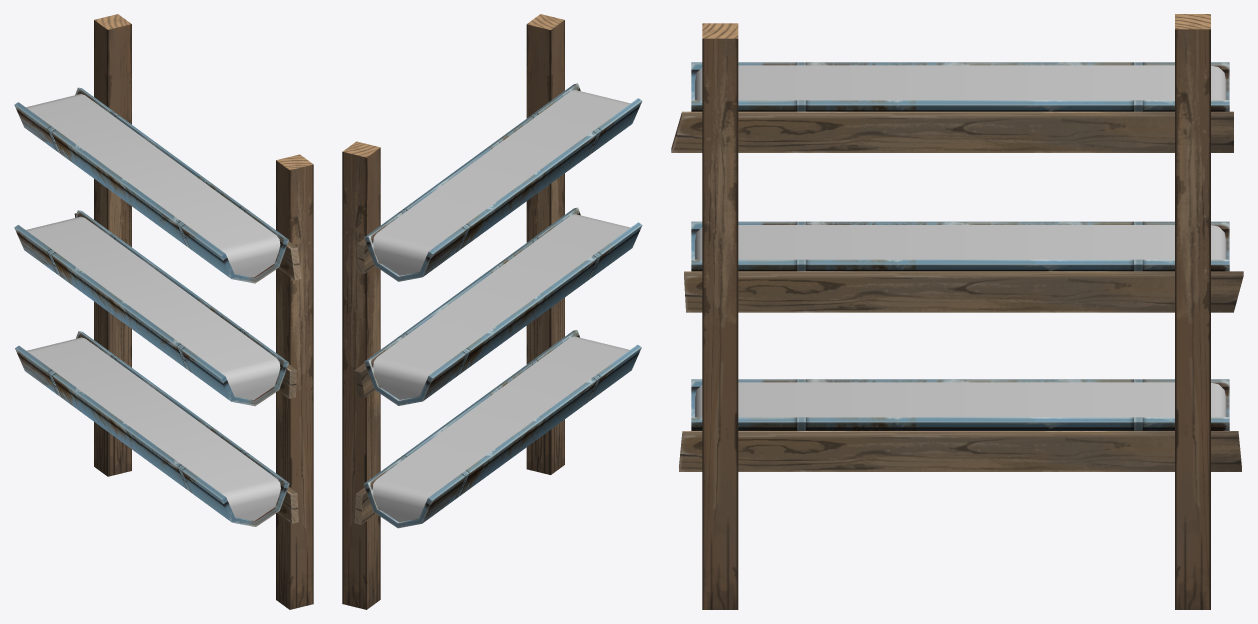
Rendered from gutterPlanter02.fbx.
The picture shows the model from 3 angles, left to right: view 1: azimuth 30°, elevation 25°; view 2: azimuth 150°, elevation 25°; view 3: azimuth 270°, elevation 25°; orthographic projection. The views are drawn at different scales.
Parts seen in each view (by area): view 1: gutterPlanter02; view 2: gutterPlanter02; view 3: gutterPlanter02.
Boxes of the visible parts, left/top/right/bottom form: gutterPlanter02: left=14, top=14, right=313, bottom=609; gutterPlanter02: left=342, top=14, right=642, bottom=609; gutterPlanter02: left=671, top=14, right=1243, bottom=609.
Size of the model in its own units: 42.72 by 189 by 169.
